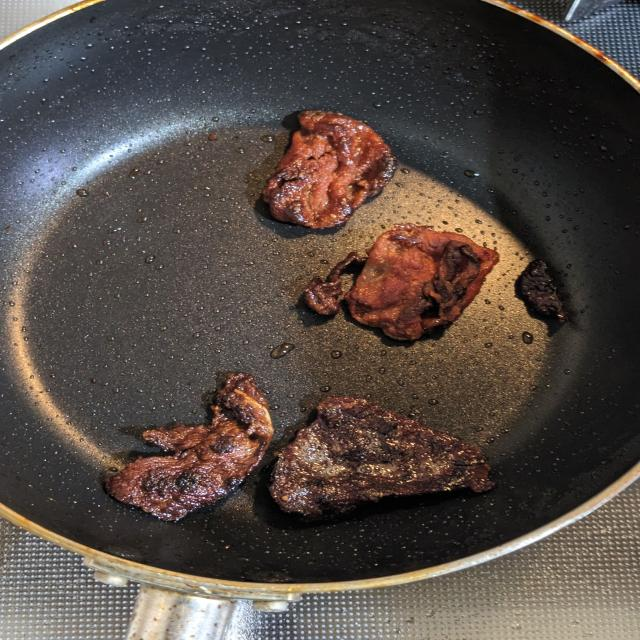overcooked beef,: (256, 381, 505, 518), (89, 365, 281, 532)
overcooked pork: (297, 227, 511, 354), (249, 99, 412, 240)
